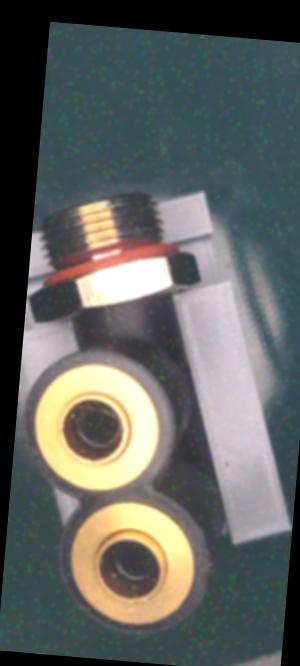bump: (199, 549, 219, 593)
off-centered: (65, 401, 125, 457)
white mark: (113, 310, 139, 334), (103, 305, 114, 329)
